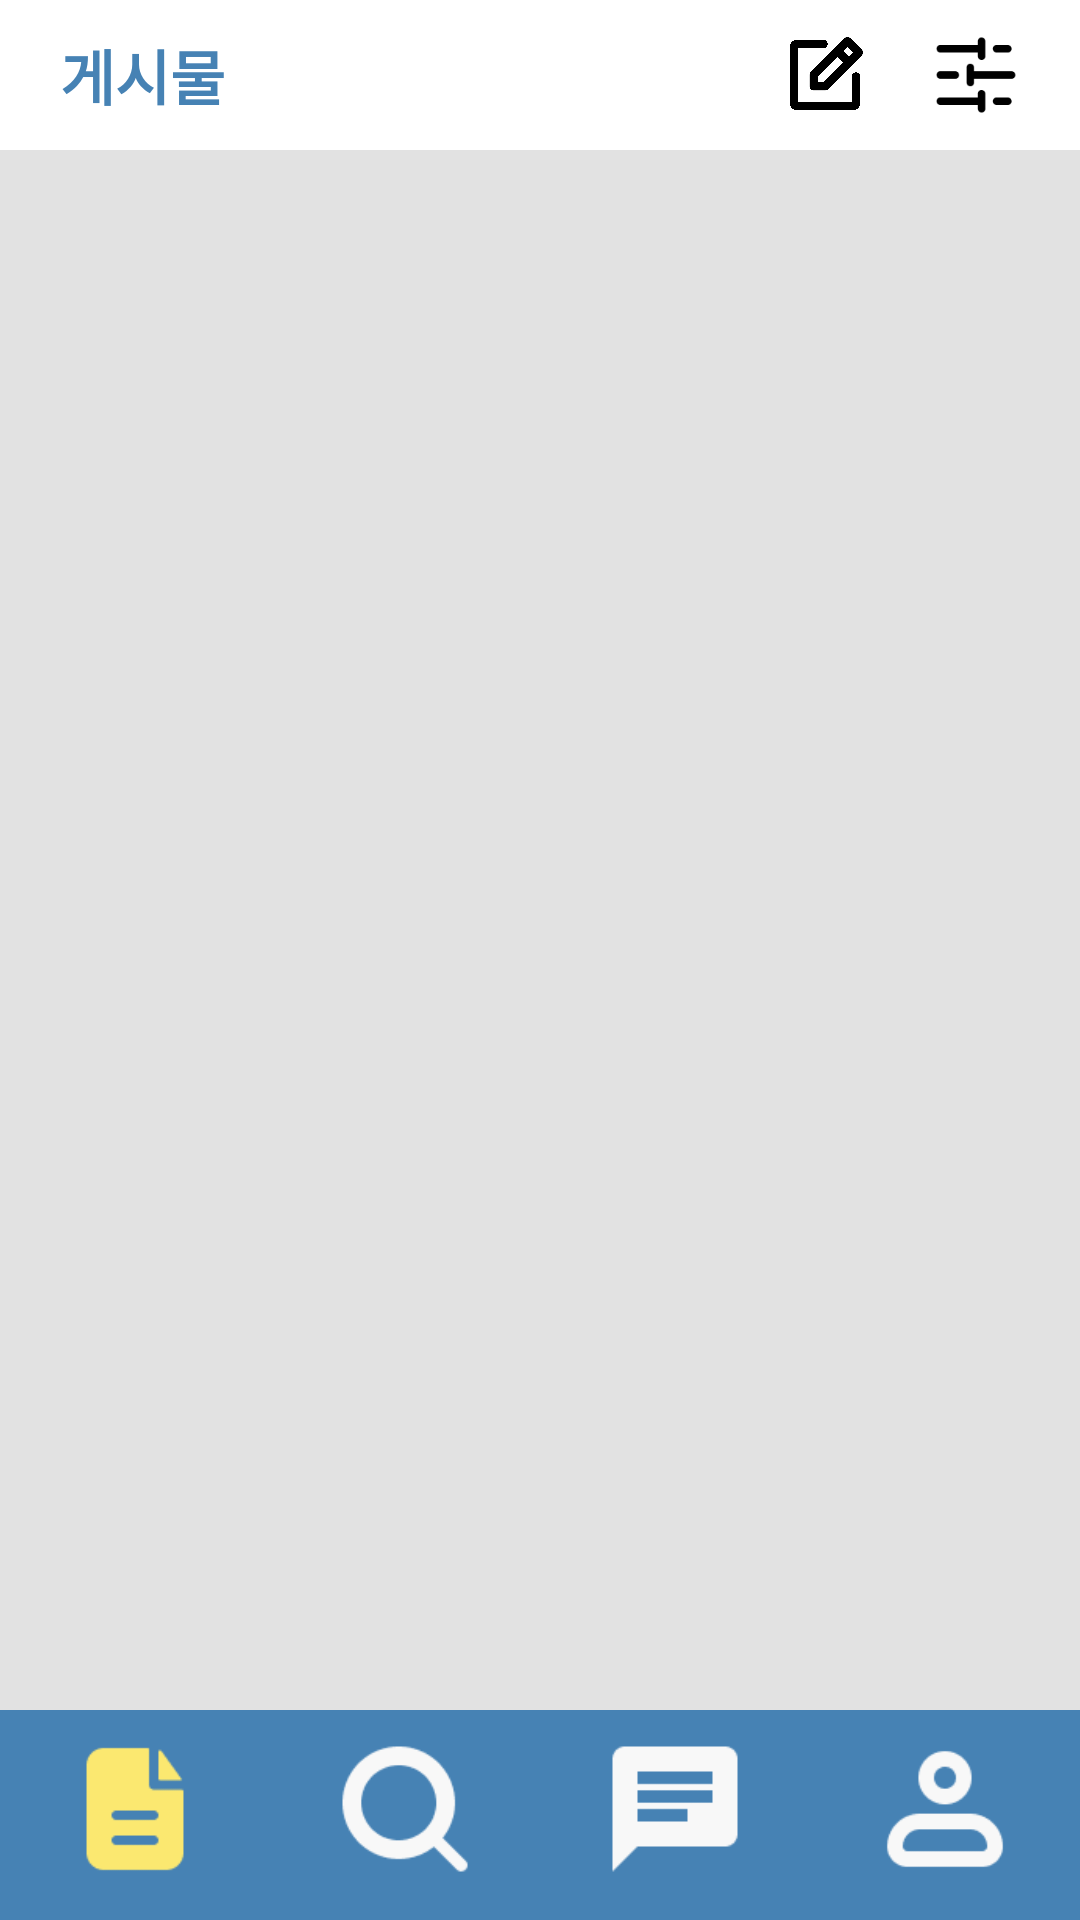

Where icons sit on this 1080px x 1920px app screen, as {"left": x1, "top": y1, "right": x2, "bottom": y2}:
offchat: {"left": 612, "top": 1746, "right": 738, "bottom": 1872}
offprofile: {"left": 887, "top": 1751, "right": 1003, "bottom": 1867}
offsearch: {"left": 342, "top": 1746, "right": 468, "bottom": 1872}
ondocument: {"left": 86, "top": 1747, "right": 184, "bottom": 1871}
pencil: {"left": 790, "top": 37, "right": 863, "bottom": 110}
setting: {"left": 936, "top": 37, "right": 1016, "bottom": 113}
